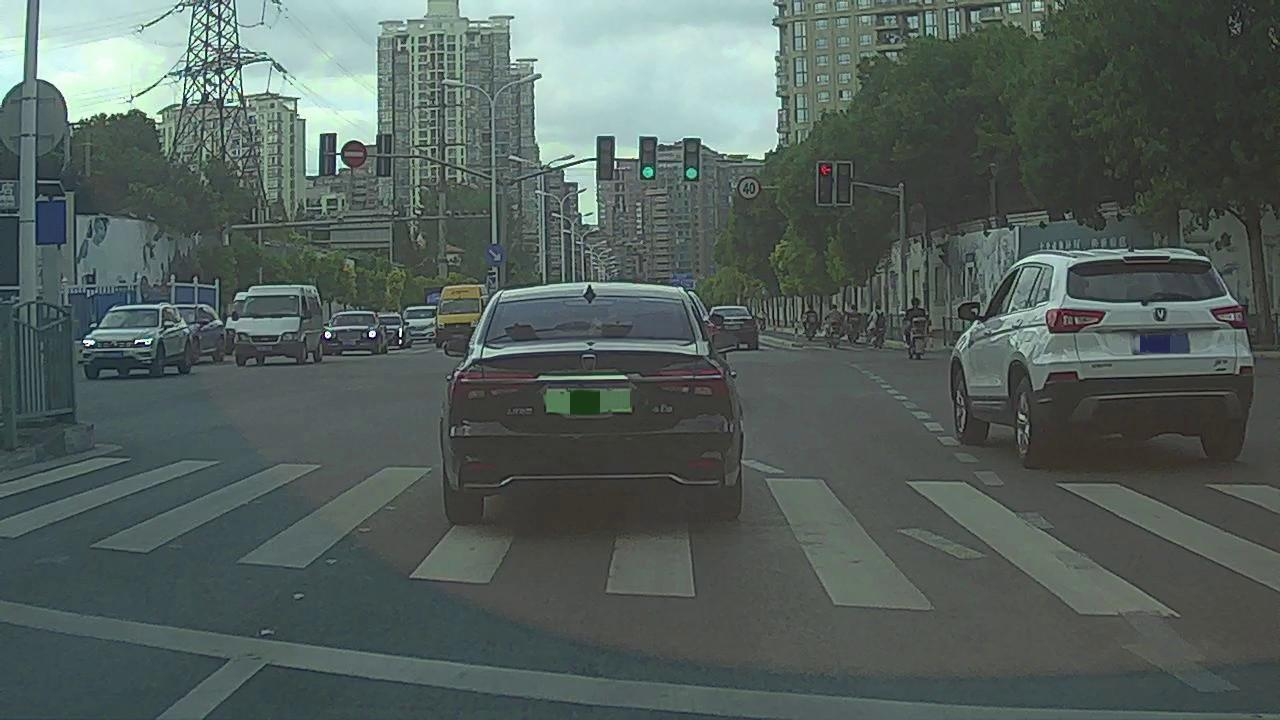traffic_light: (834, 161, 851, 205), (640, 137, 657, 180), (598, 136, 614, 181), (817, 161, 833, 205), (684, 138, 699, 181)
